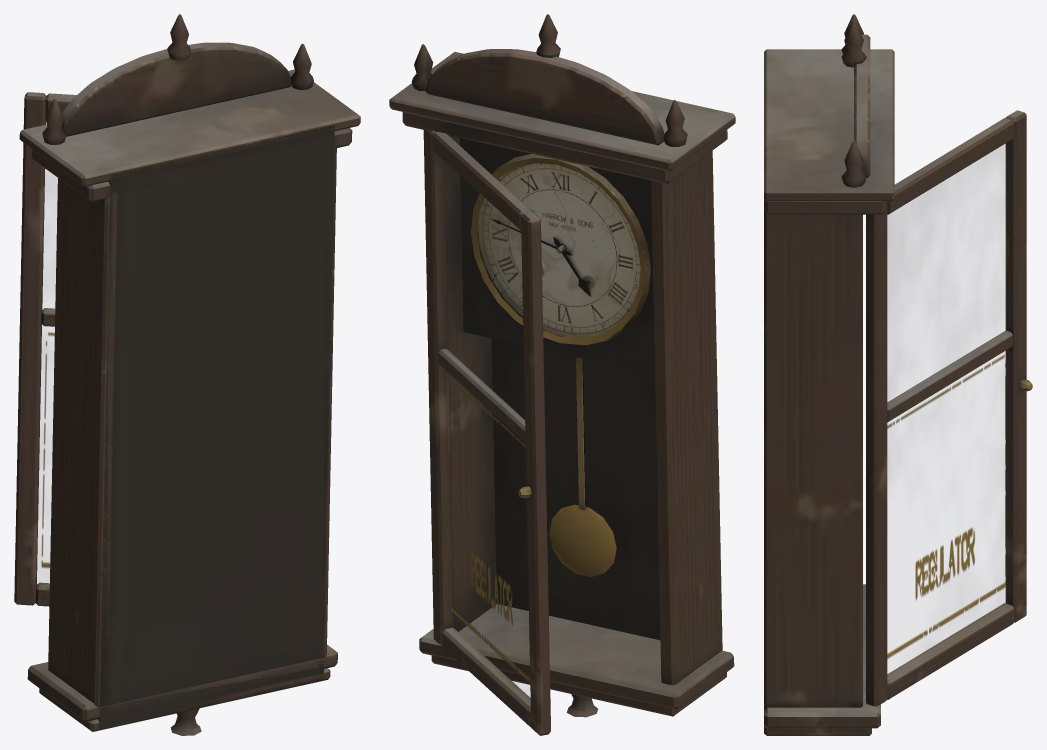
The model's file is dressing_clock.glb.
3 renders of one model, left to right at view 1: azimuth 30°, elevation 25°; view 2: azimuth 150°, elevation 25°; view 3: azimuth 270°, elevation 25°, orthographic.
Parts seen in each view (by area): view 1: dressing_clock, dressing_clock_glass; view 2: dressing_clock, dressing_clock_glass; view 3: dressing_clock, dressing_clock_glass.
Part boxes in pixels (x1,y1,x2,y2): dressing_clock: (14,14,360,735); dressing_clock_glass: (37,169,57,585); dressing_clock: (389,14,735,735); dressing_clock_glass: (440,157,530,699); dressing_clock: (764,14,1032,735); dressing_clock_glass: (887,143,1007,659).
Bounding box in the file's own units: 0.3601 × 0.8628 × 0.2988.
2 materials, 2 textured.
